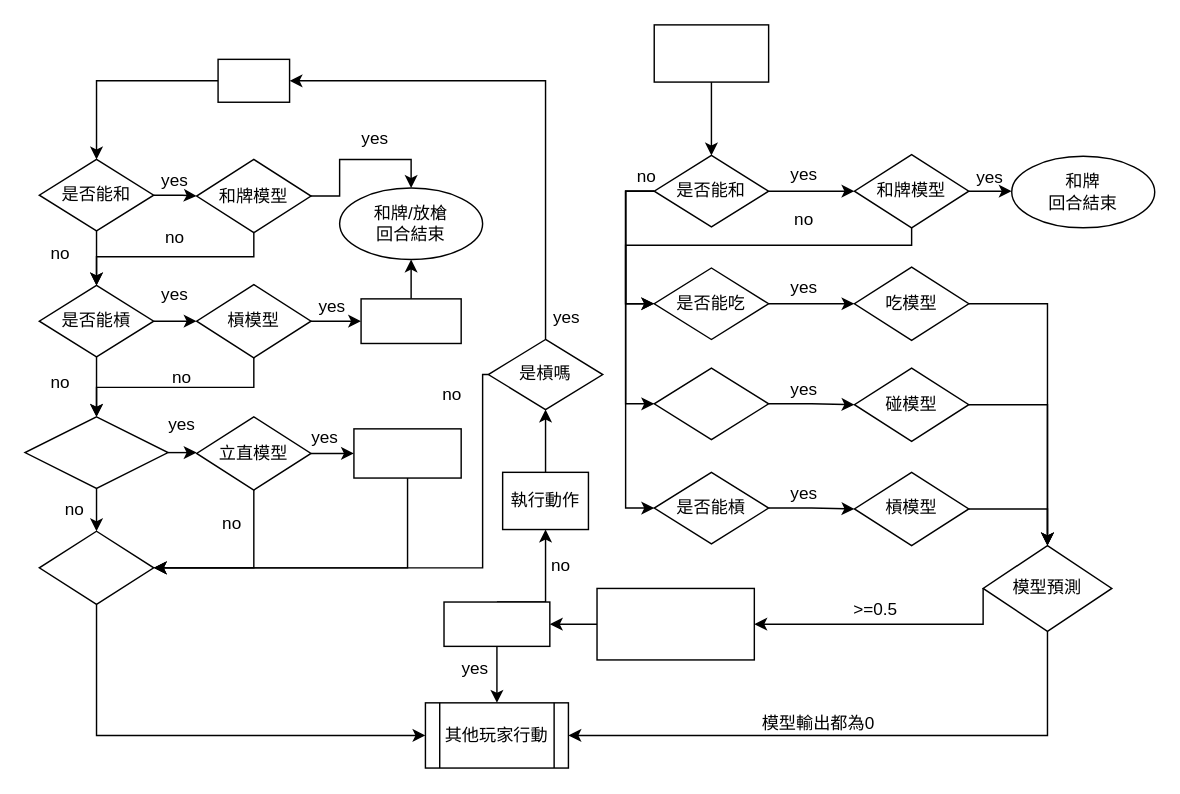
This 1180x794 diagram has some shape labels left out. The centre of each missing label's shape, as x and y in pixels:
"其他玩家打牌" goes at point 711,52.
"宣告立直" goes at point 406,452.
"摸牌" goes at point 253,80.
"是否能碰" goes at point 711,403.
"是否能立直" goes at point 96,451.
"是否被打斷" goes at point 496,623.
"棄牌模型" goes at point 96,567.
"槓牌" goes at point 410,320.
"選擇數值最高的行動" goes at point 675,623.
